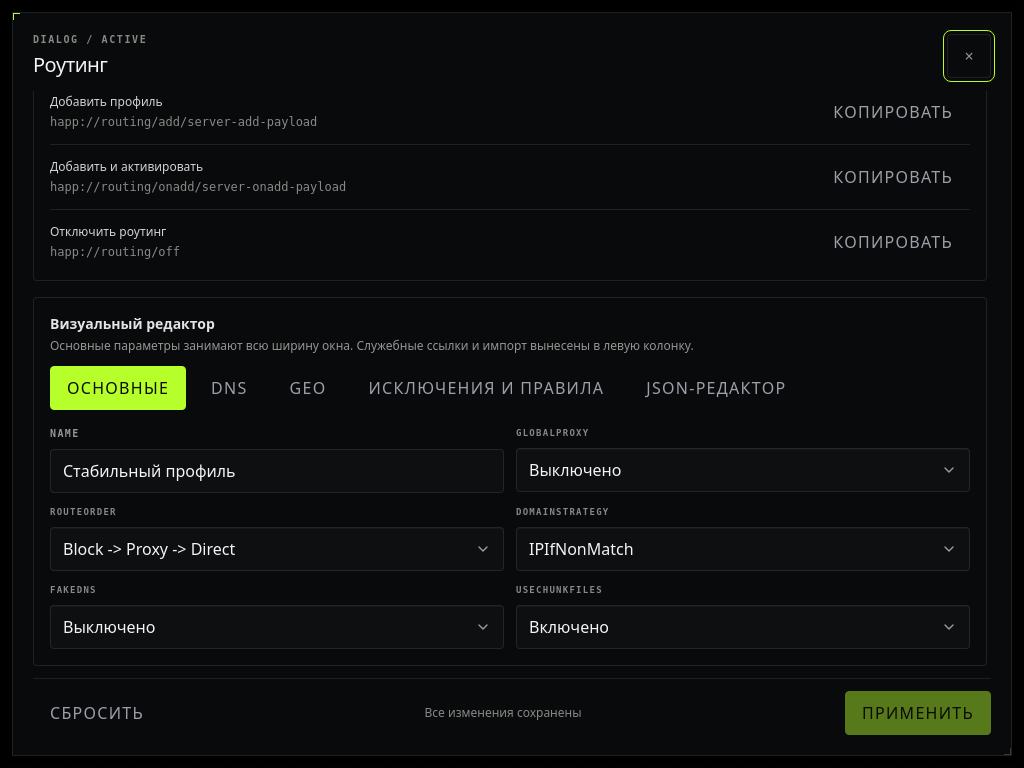
Test: RoutingSettingsModal › marks server-generated manual links stale after an unsaved config edit
(page scrolled)
Replace the text in the field showing "Стабильный профиль" with "Изменённый профиль" at (277, 471), box left=50, top=449, right=504, bottom=493
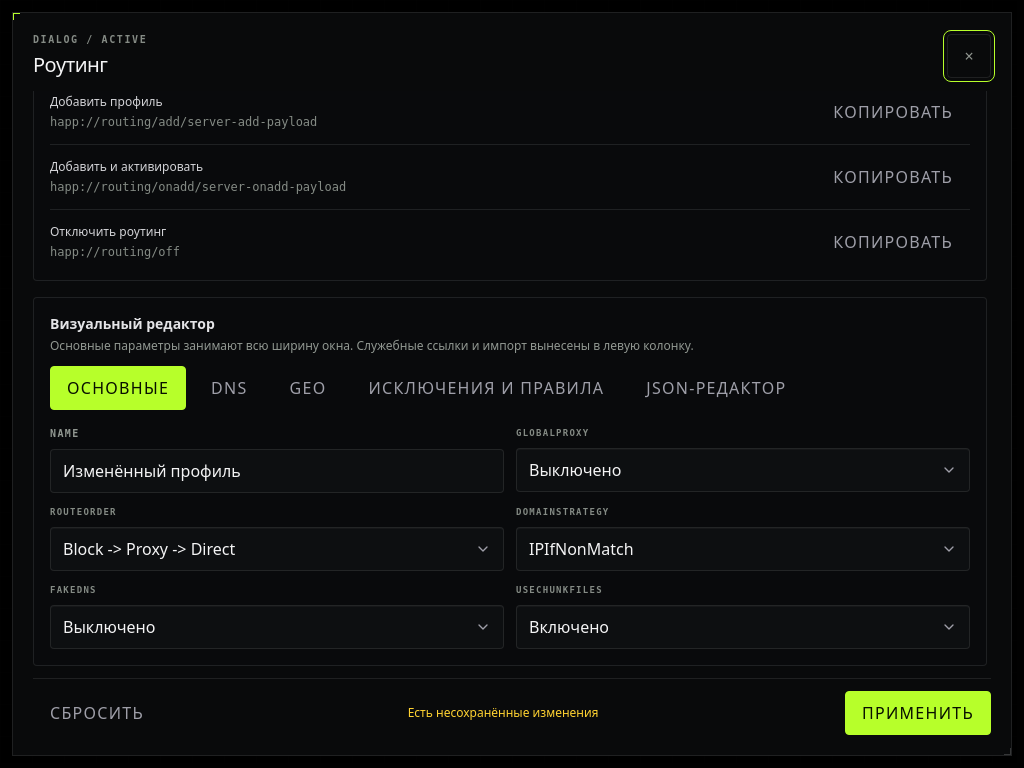
Expected: the button "Сбросить" is shown, left=33, top=691, right=161, bottom=735
Expected: the text "Есть несохранённые изменения" is shown, left=408, top=705, right=598, bottom=721
Expected: the button "Применить" is enabled, left=845, top=691, right=991, bottom=735
